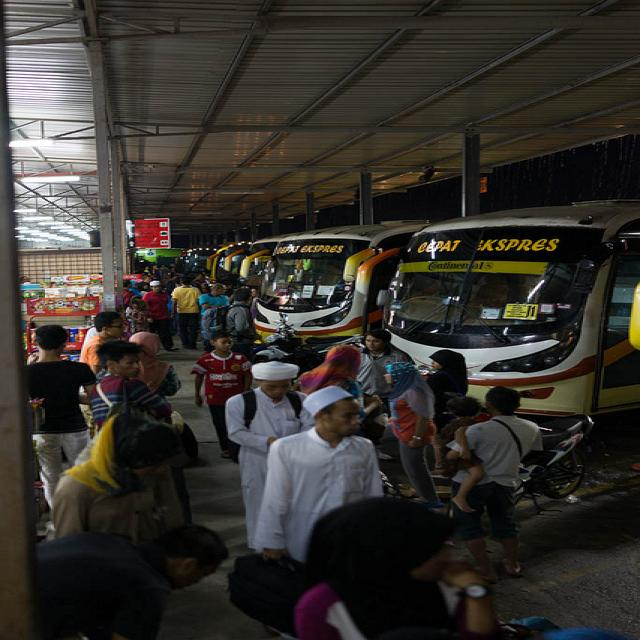motor: (509, 412, 597, 515), (252, 312, 367, 368)
